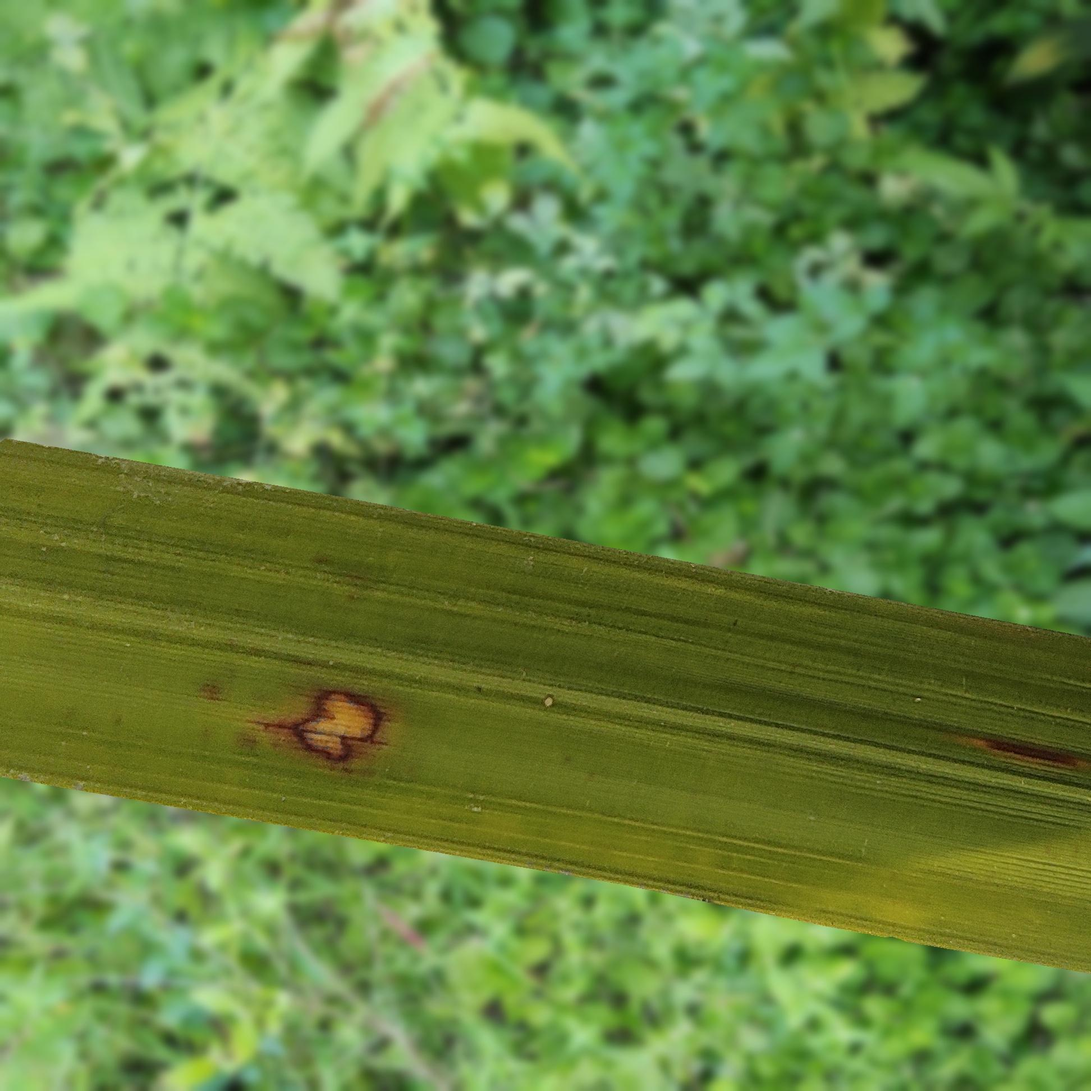LEAF BLAST: (260, 691, 383, 763)
